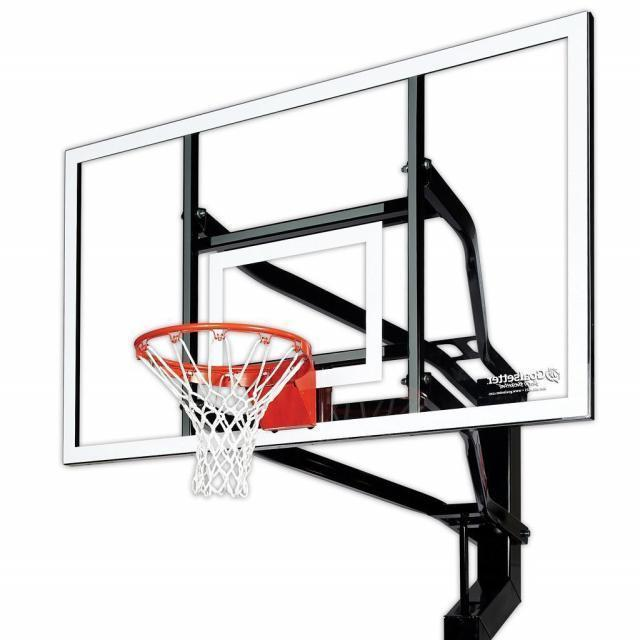hoop: (106, 307, 394, 534)
